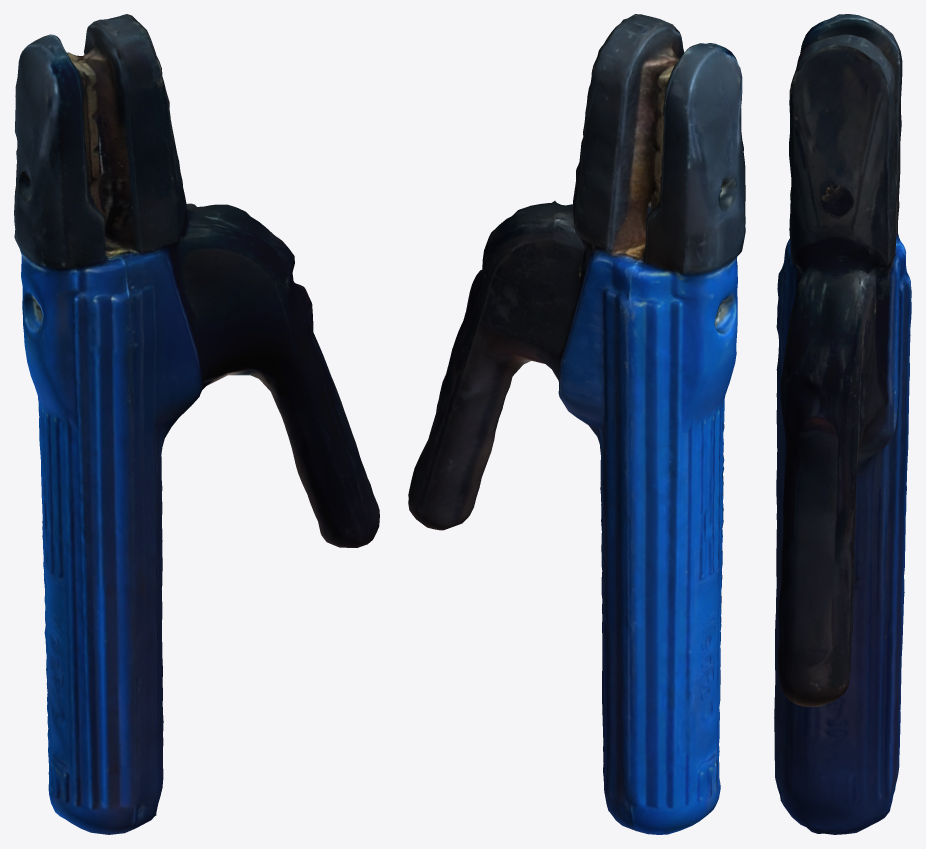
File: pemegang-elektrod.glb
3 renders of one model, left to right at view 1: azimuth 30°, elevation 25°; view 2: azimuth 150°, elevation 25°; view 3: azimuth 270°, elevation 25°, orthographic.
Parts seen in each view (by area): view 1: 3DModel; view 2: 3DModel; view 3: 3DModel.
Boxes of the visible parts, bbox=[...] form: 3DModel: bbox=[14, 14, 379, 834]; 3DModel: bbox=[408, 14, 745, 834]; 3DModel: bbox=[774, 14, 911, 834].
Size of the model in its own units: 0.0974 by 0.2189 by 0.0345.
1 material, 1 textured.
